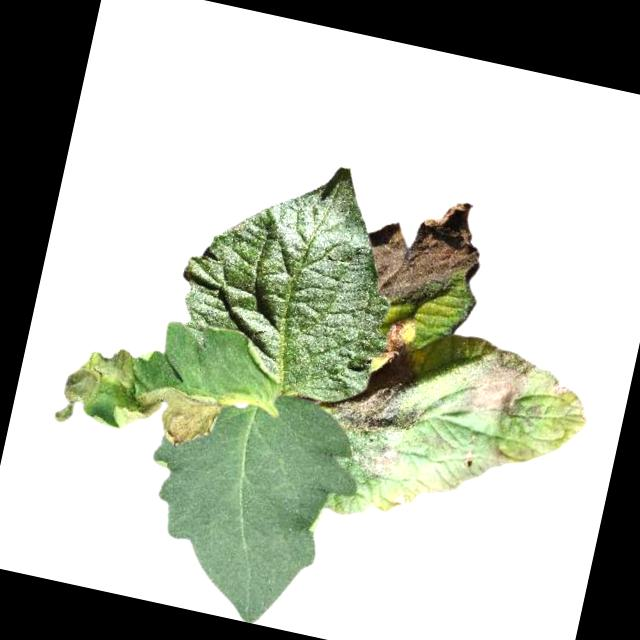Late_blight: (351, 183, 490, 322), (328, 342, 429, 441), (49, 335, 141, 435), (451, 339, 538, 428), (126, 379, 223, 451), (340, 427, 410, 485), (380, 310, 417, 358), (540, 369, 571, 403), (388, 488, 413, 510)
